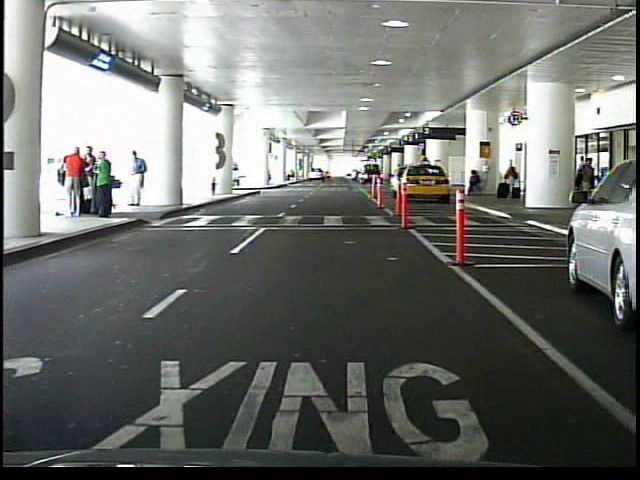person: (64, 143, 88, 218), (96, 152, 116, 222), (128, 151, 150, 211), (577, 154, 599, 210), (86, 146, 101, 211), (504, 160, 520, 203), (465, 170, 482, 198)
